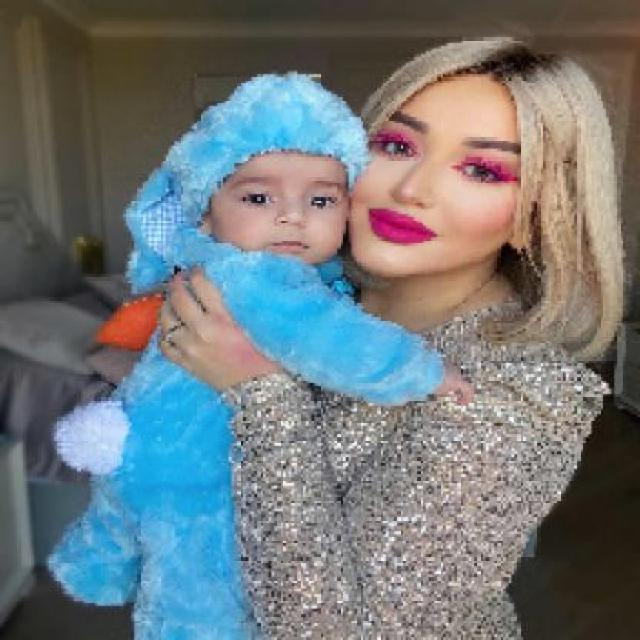child: (49, 68, 480, 638)
